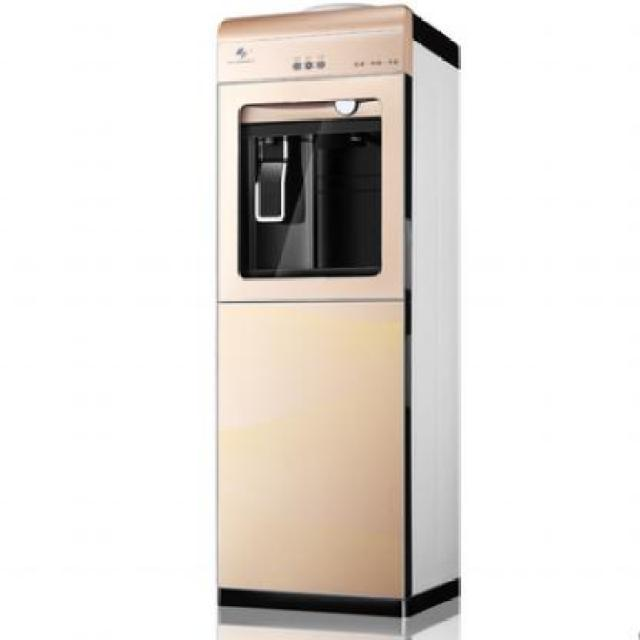cooler: (209, 1, 463, 640)
